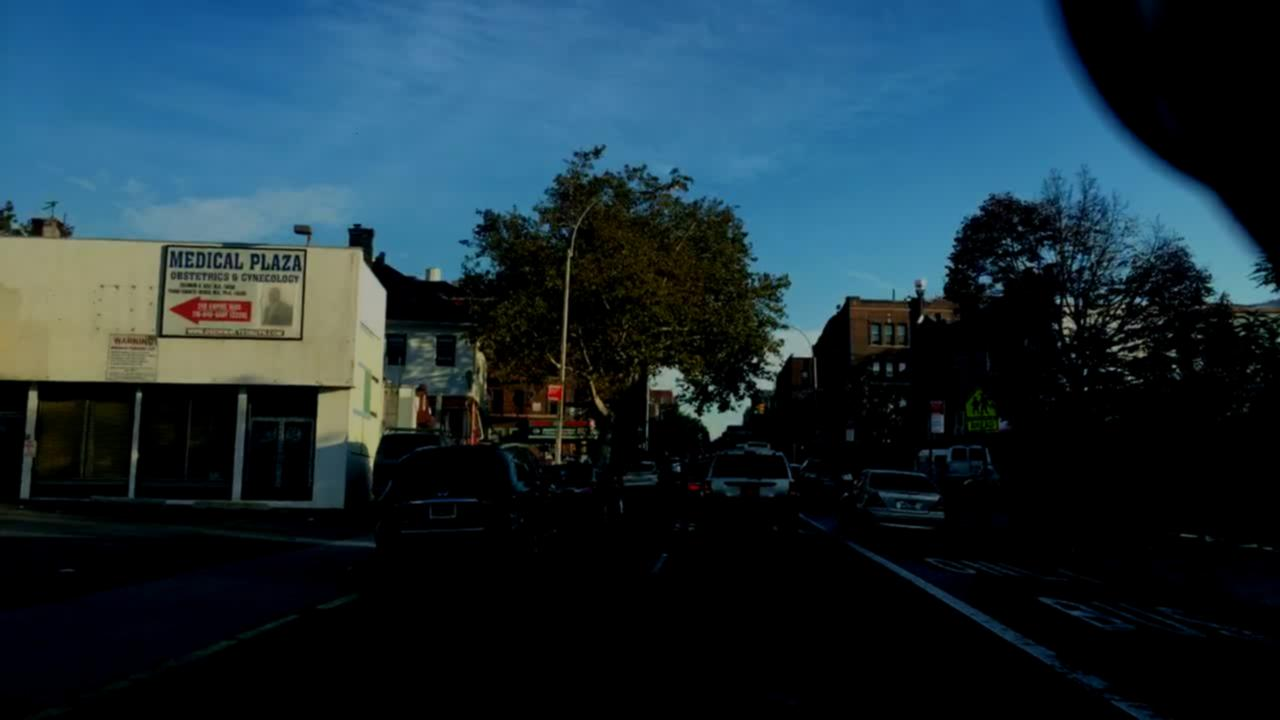Infiniti: (434, 486, 453, 500)
